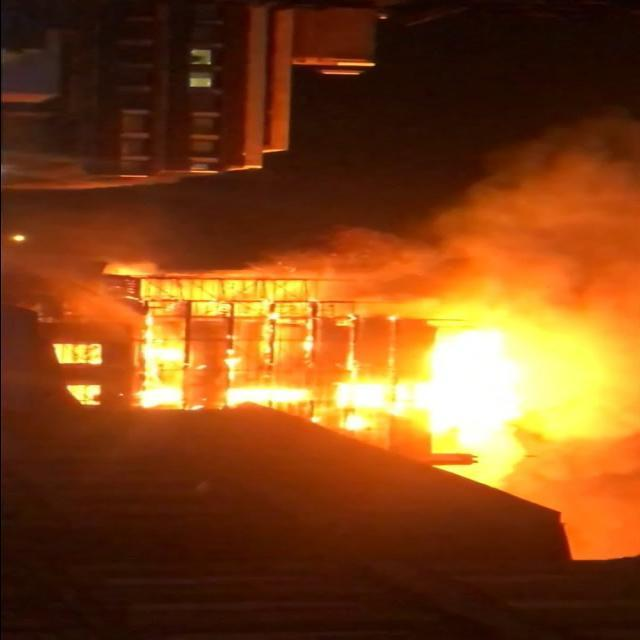Fire: (116, 280, 568, 487)
